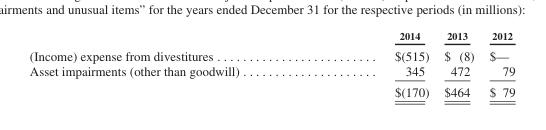table: (28, 29, 514, 98)
table column: (28, 29, 316, 98), (316, 29, 436, 98), (436, 29, 481, 98), (481, 29, 514, 98)
table column header: (28, 29, 514, 44)
table row: (28, 62, 514, 81), (28, 44, 514, 62), (28, 81, 514, 98), (28, 29, 514, 44)
